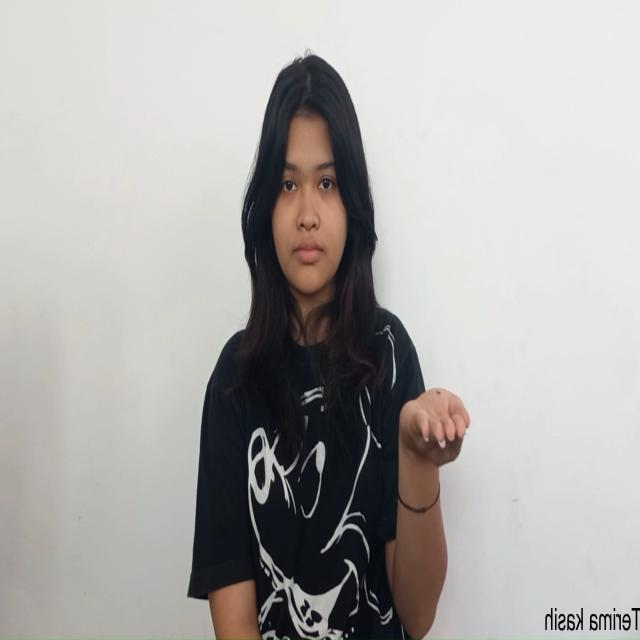Terima kasih -BISINDO-: (396, 384, 472, 471)
